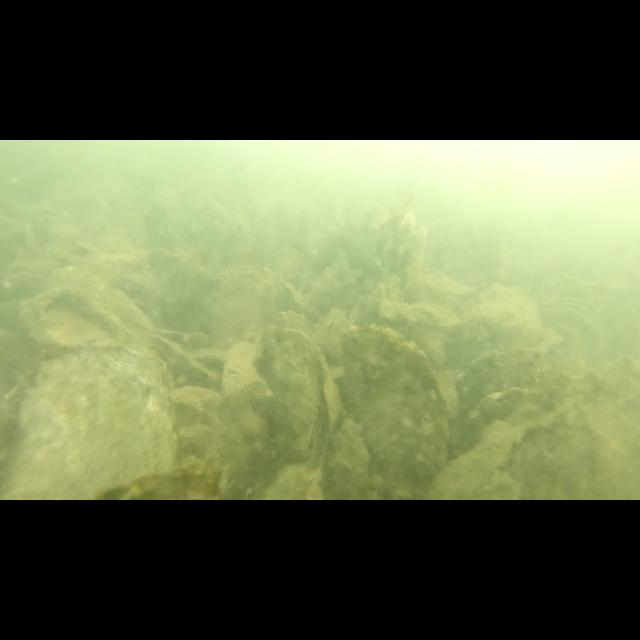Oyster-Closed: (428, 354, 640, 500), (1, 342, 176, 500), (338, 324, 450, 492), (253, 326, 331, 460), (203, 264, 317, 338), (14, 285, 134, 351), (455, 347, 539, 427), (326, 420, 374, 500), (220, 340, 272, 402)
Oyster-Open: (313, 308, 347, 354), (472, 382, 522, 411)
